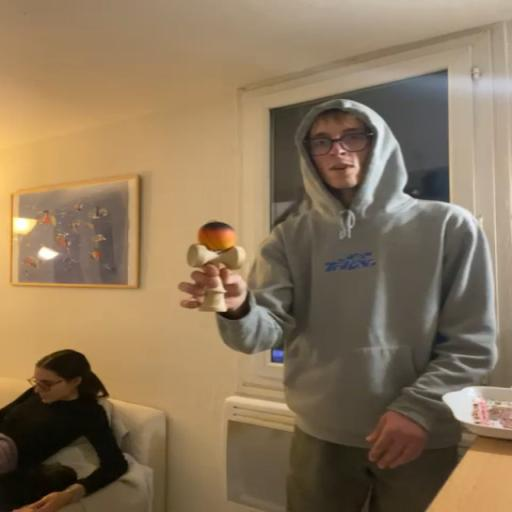kendama_ball: (197, 222, 237, 251)
